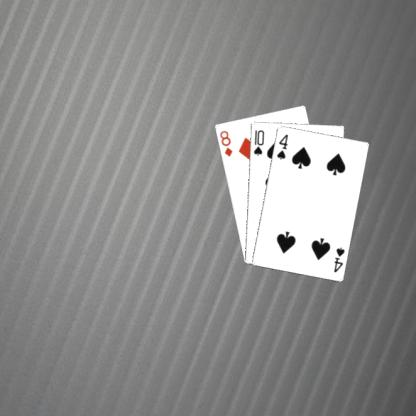10S: (251, 127, 265, 157)
4S: (330, 244, 346, 273), (274, 131, 289, 161)
8D: (217, 128, 233, 158)
